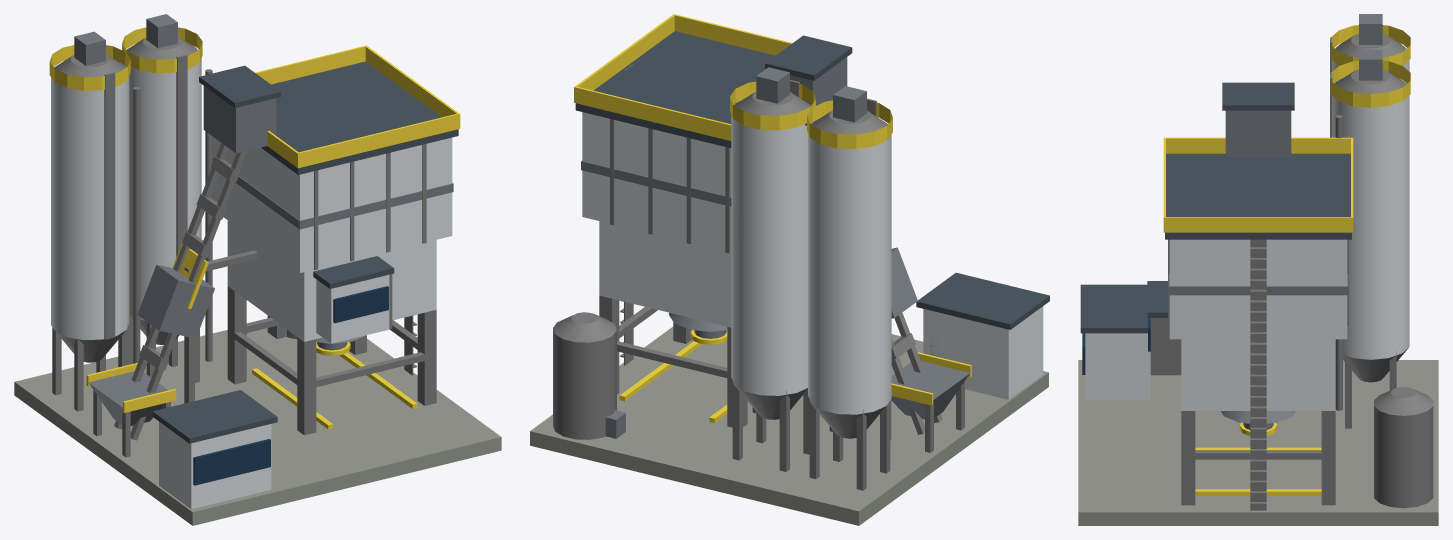
Rendered from mashup-main-mid-prebuilt.fbx.
The picture shows the model from 3 angles, left to right: view 1: azimuth 30°, elevation 25°; view 2: azimuth 150°, elevation 25°; view 3: azimuth 270°, elevation 25°; orthographic projection. The views are drawn at different scales.
Parts seen in each view (by area): view 1: a1025.Main; view 2: a1025.Main; view 3: a1025.Main.
Boxes of the visible parts, x1,y1,x2,y2 form: a1025.Main: (14,14,501,525); a1025.Main: (530,14,1049,525); a1025.Main: (1078,14,1438,525).
Bounding box in the file's own units: 15.55 × 17.7 × 15.4.
